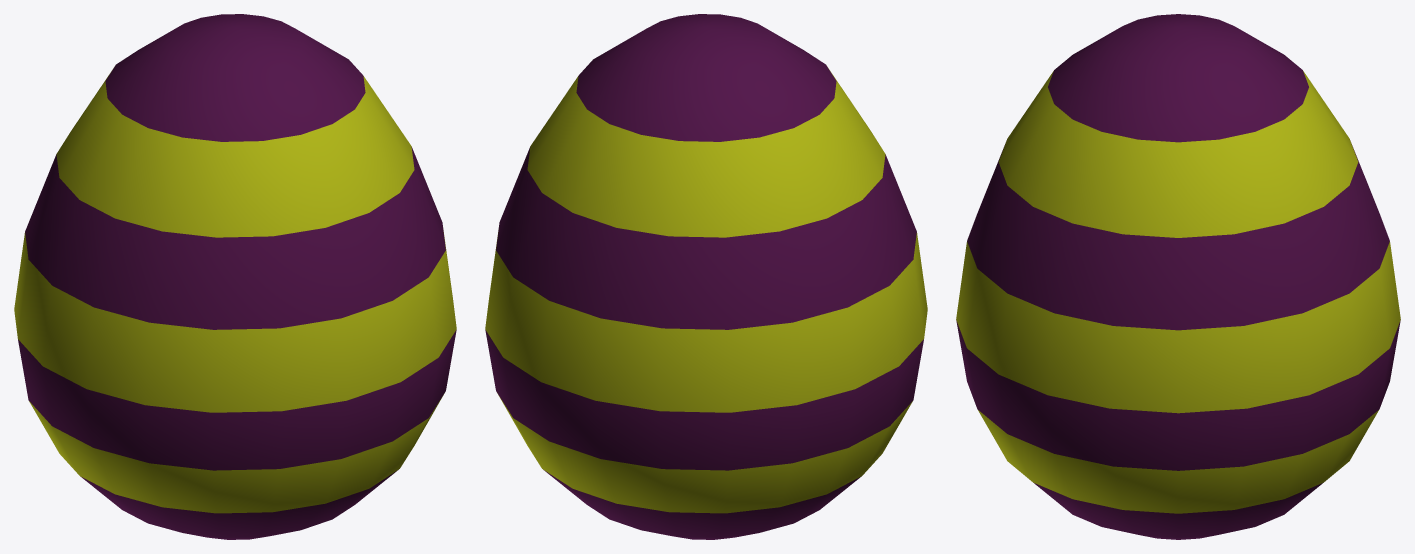
File: oeuf.FBX
3 views of the same model, side by side, from view 1: azimuth 30°, elevation 25°; view 2: azimuth 150°, elevation 25°; view 3: azimuth 270°, elevation 25° (orthographic).
Visible parts, largest first — view 1: Sphere001; view 2: Sphere001; view 3: Sphere001.
Boxes of the visible parts, x1=… form: Sphere001: x1=14, y1=14, x2=456, y2=539; Sphere001: x1=485, y1=14, x2=927, y2=539; Sphere001: x1=956, y1=14, x2=1400, y2=539.
Bounding box in the file's own units: 0.3743 × 0.4579 × 0.3743.
